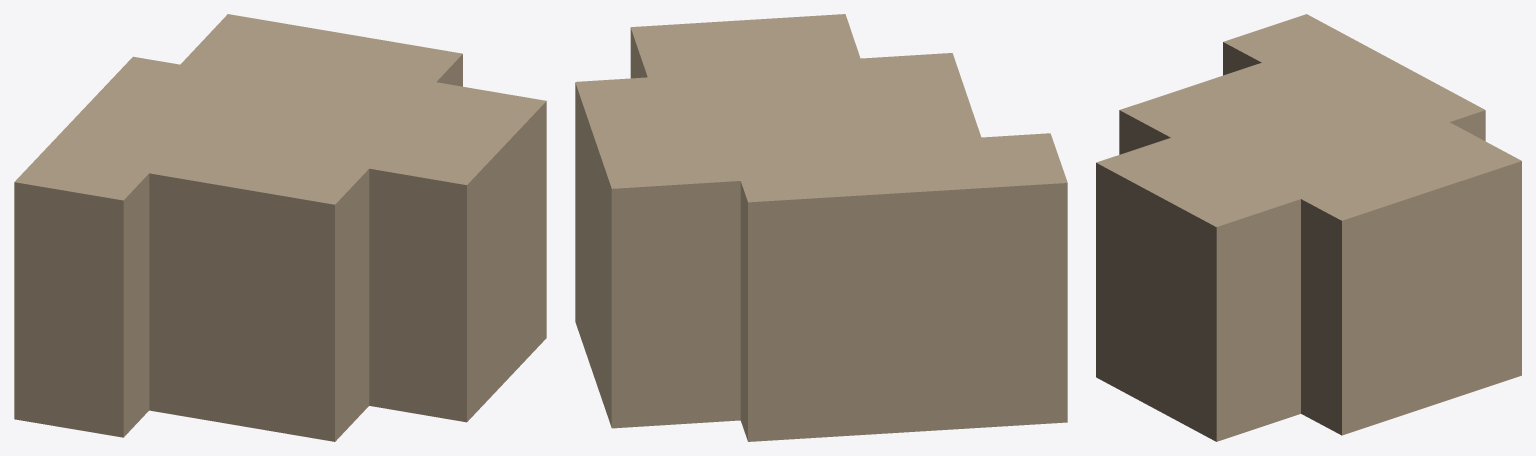
File: bld_101374636.dae
3 renders of one model, left to right at view 1: azimuth 30°, elevation 25°; view 2: azimuth 150°, elevation 25°; view 3: azimuth 270°, elevation 25°, orthographic. The views are drawn at different scales.
Parts seen in each view (by area): view 1: bld_101374636; view 2: bld_101374636; view 3: bld_101374636.
Boxes of the visible parts, bbox=[...] form: bld_101374636: bbox=[14, 14, 546, 441]; bld_101374636: bbox=[575, 14, 1067, 441]; bld_101374636: bbox=[1096, 14, 1521, 441].
Size of the model in its own units: 17.04 by 14.38 by 8.
